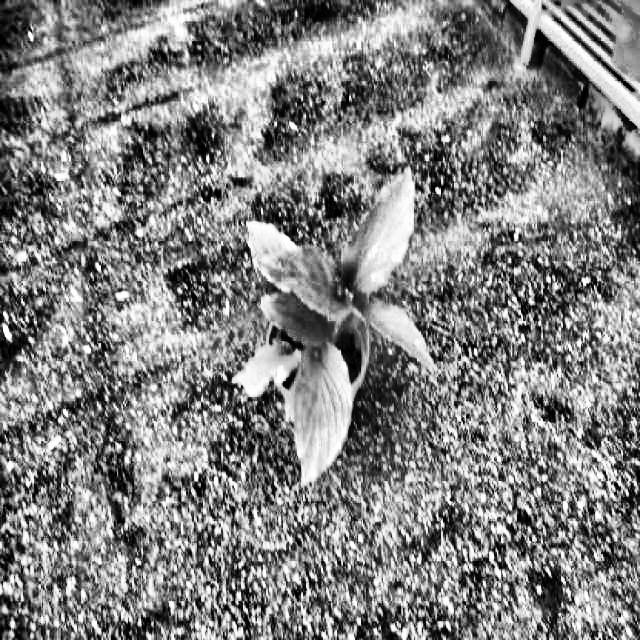plants: (233, 168, 439, 487)
